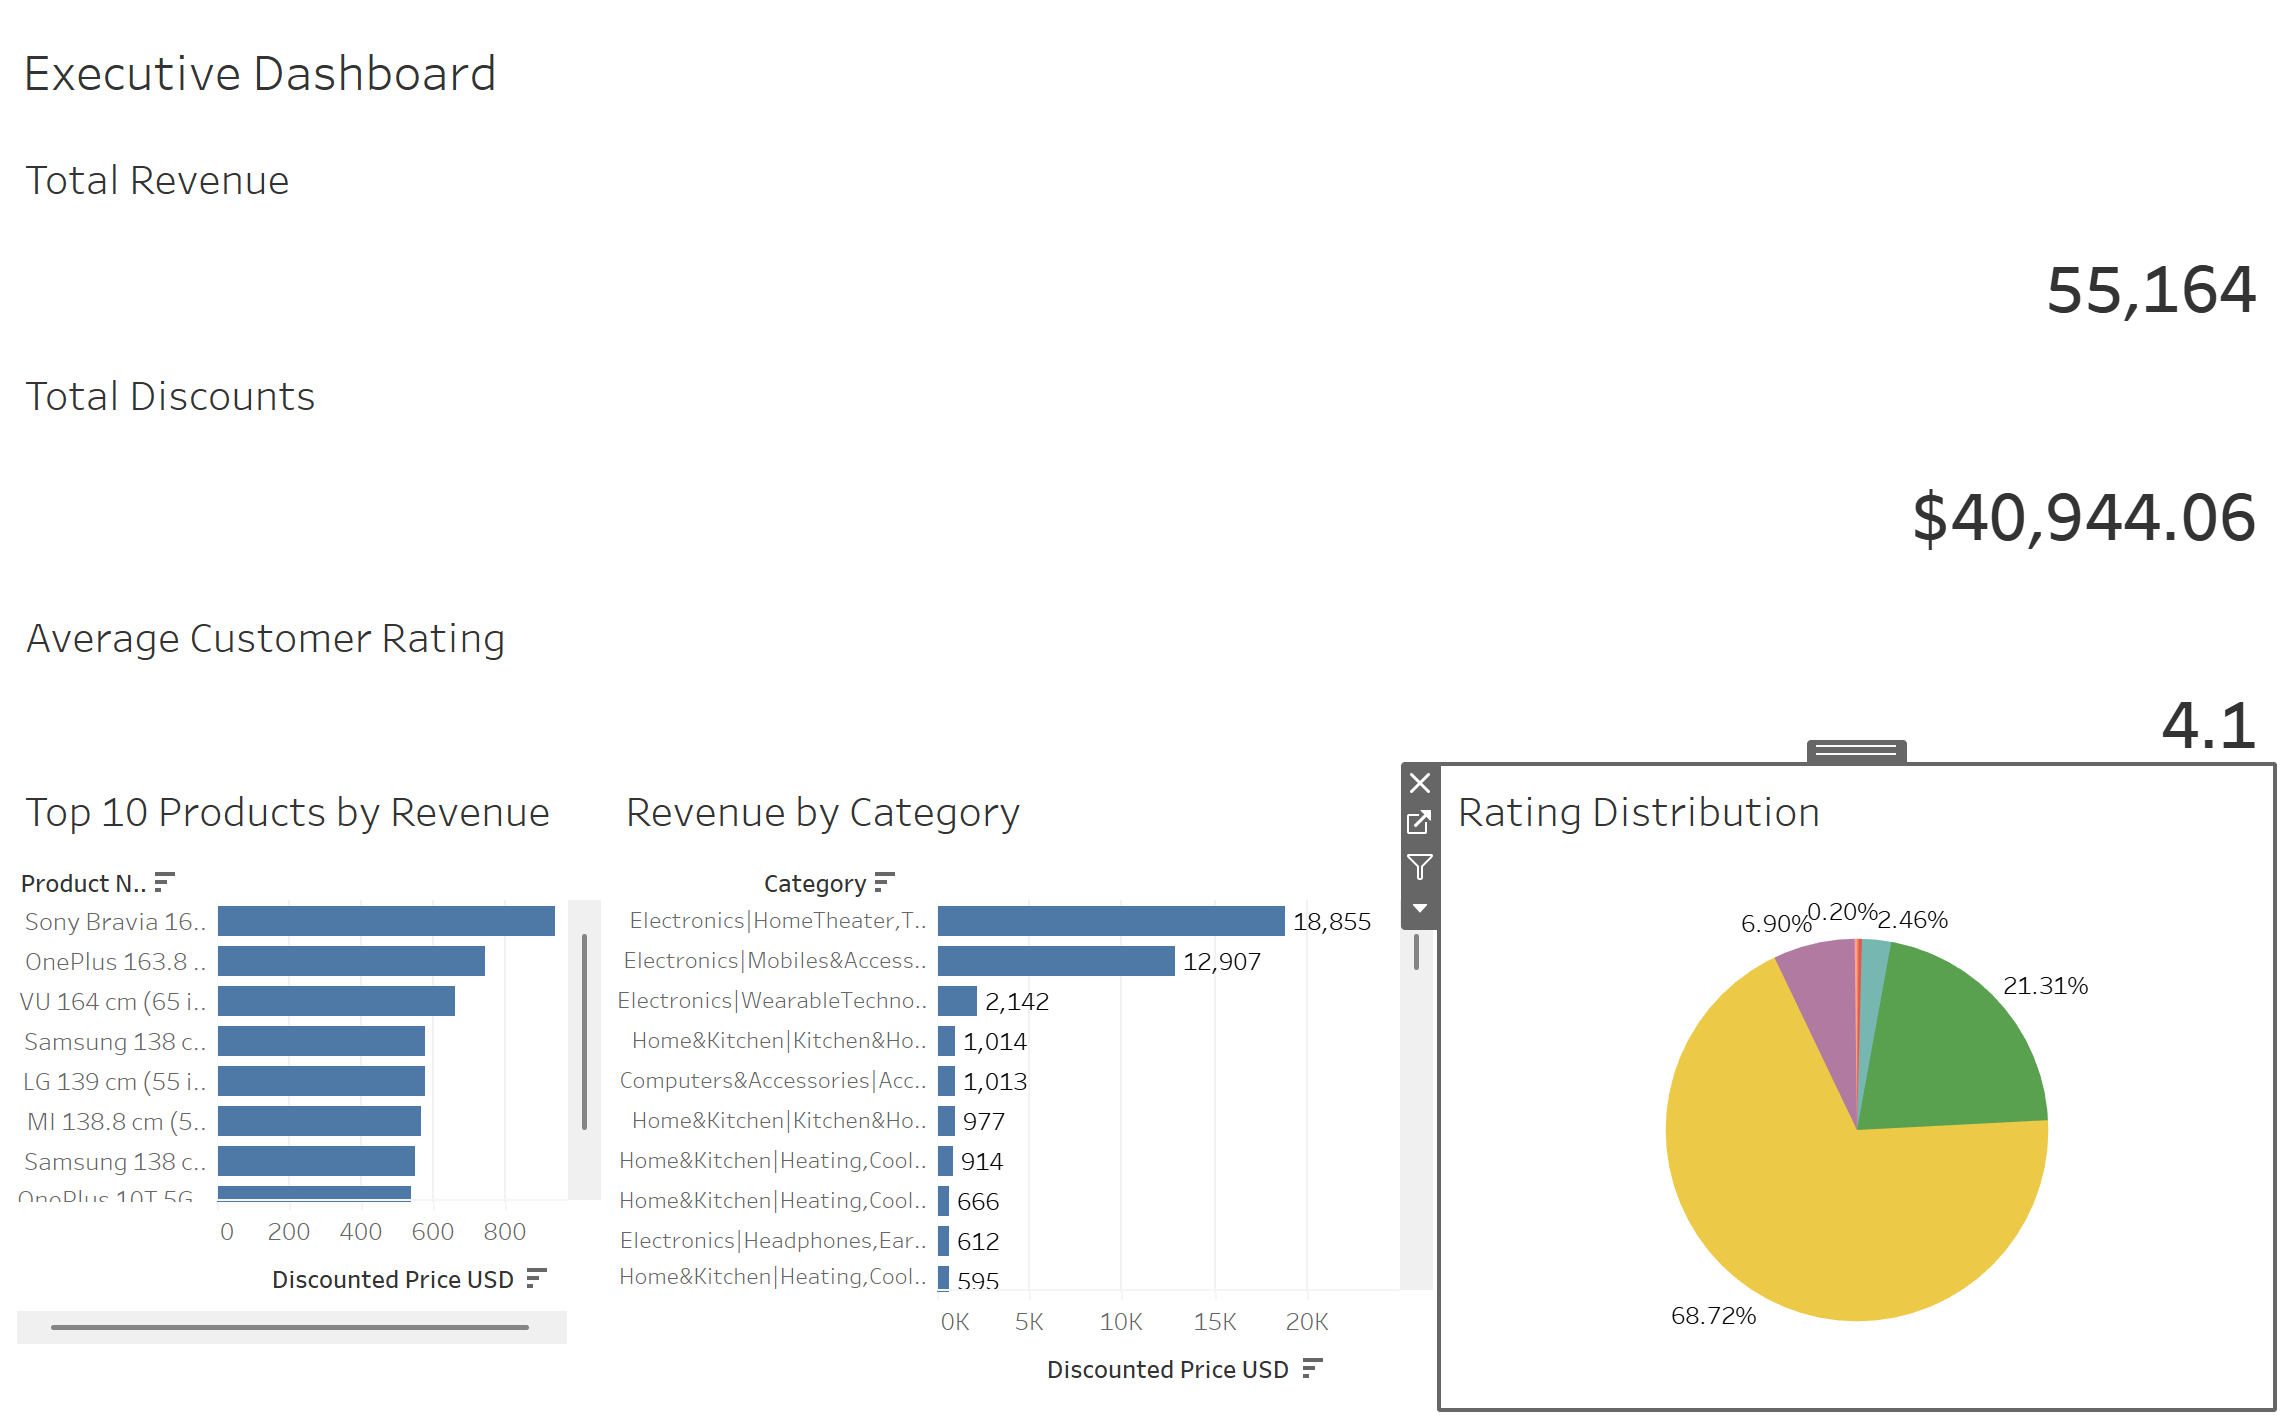

What the dashboard file says about the page in this screenshot:
{"tool":"tableau","page":{"name":"Executive Dashboard","canvas":[1000,1000],"units":"permille","ordinal":0},"visuals":[{"type":"title","box":[7,11.2,986.1,88]},{"type":"worksheet","title":"Total Revenue","mark":"Automatic","box":[7,99.2,986.1,150.8]},{"type":"worksheet","title":"Total Discounts","mark":"Automatic","box":[7,250,986.1,169]},{"type":"worksheet","title":"Average Customer Rating","mark":"Automatic","box":[7,419,986.1,121.5]},{"type":"worksheet","title":"TOP 10 Products by Revenue","mark":"Automatic","rows":["product_name"],"cols":["discounted_price_USD"],"box":[7,540.5,261.4,448.3]},{"type":"worksheet","title":"Revenue by Category","mark":"Automatic","rows":["category"],"cols":["discounted_price_USD"],"box":[268.4,540.5,362.3,448.3]},{"type":"worksheet","title":"Rating Distribution","mark":"Pie","box":[630.7,540.5,362.3,448.3]}]}

Visuals, with their boxes on the dashboard's canvas, which has no fixed pixel size, in thousandths of its width and height (x1, y1, x2, y2). These are canvas units, not pixel positions in the 2288x1420 screenshot, which may show the page scaled, cropped or inside an application window:
title: <bbox>7, 11, 993, 99</bbox>
"Total Revenue" worksheet: <bbox>7, 99, 993, 250</bbox>
"Total Discounts" worksheet: <bbox>7, 250, 993, 419</bbox>
"Average Customer Rating" worksheet: <bbox>7, 419, 993, 540</bbox>
"TOP 10 Products by Revenue" worksheet: <bbox>7, 540, 268, 989</bbox>
"Revenue by Category" worksheet: <bbox>268, 540, 631, 989</bbox>
"Rating Distribution" worksheet (Pie marks): <bbox>631, 540, 993, 989</bbox>
